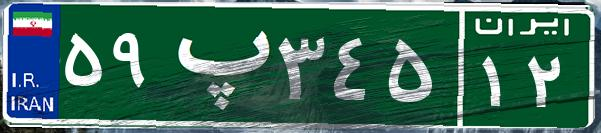1: (475, 38, 525, 113)
2: (525, 38, 570, 115)
3: (273, 28, 330, 110)
4: (330, 28, 385, 110)
5: (385, 28, 445, 110), (57, 26, 110, 107)
9: (110, 28, 158, 105)
پ: (158, 15, 273, 115)
